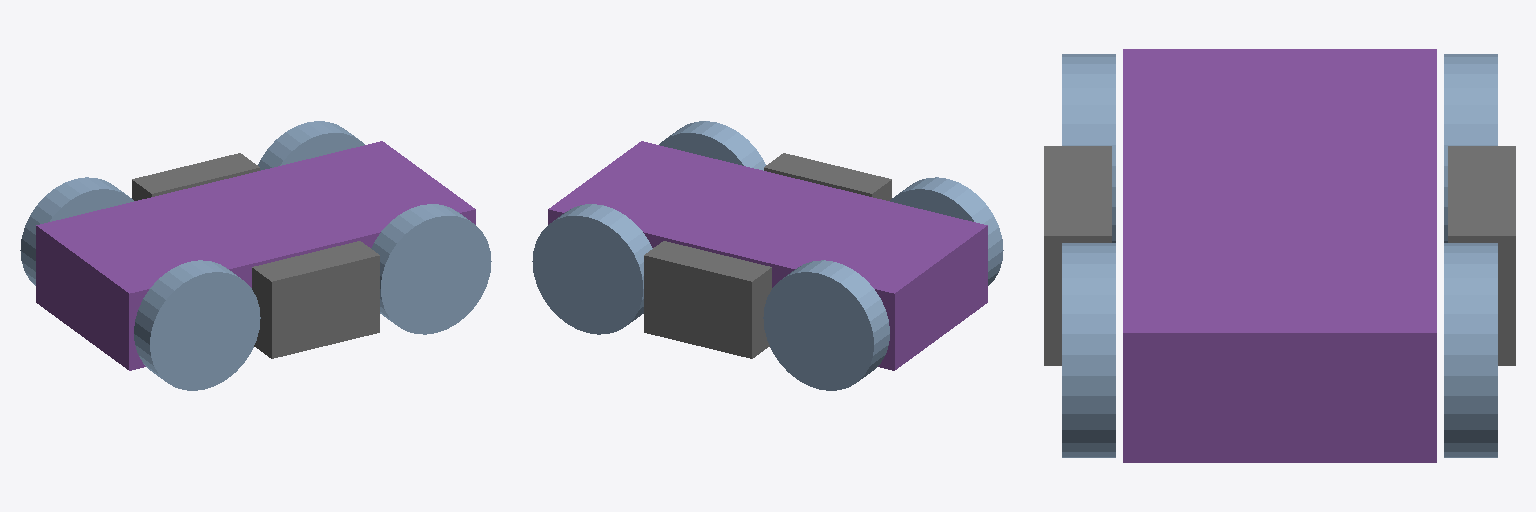
The robot description file, URDF, robot "LCAMP_Robot":
?<?xml version="1.0" encoding="utf-8"?>
<robot name="LCAMP_Robot">
  <link name="center">
    <inertial>
      <origin rpy="0 0 0" xyz="0 0 0" />
      <mass value="50" />
      <inertia ixx="98733.33333333334" ixy="0" ixz="0" iyy="392066.6666666667" iyz="0" izz="456666.6666666667" />
    </inertial>
    <visual>
      <geometry>
        <box size="300 140 64" />
      </geometry>
      <material name="center_material">
        <color rgba="0.6 0.4 0.7 0.5" />
      </material>
    </visual>
    <collision>
      <geometry>
        <box size="300 140 64" />
      </geometry>
    </collision>
  </link>
  <link name="sbFront">
    <inertial>
      <origin rpy="0 0 0" xyz="0 0 0" />
      <mass value="100" />
      <inertia ixx="47466.66666666667" ixy="0" ixz="0" iyy="401633.3333333334" iyz="0" izz="380833.3333333334" />
    </inertial>
    <visual>
      <geometry>
        <mesh filename="[local-path]\Documents\Kooperative Forschung\LCAMP\WP6 CLF\Mobile Robot\CAD-Data\STL-Step-Files\Sensorbox curved_15.STL" scale="1 1 1" />
      </geometry>
      <material name="sbFront_material">
        <color rgba="0.82421875 0.80859375 0.859375 1" />
      </material>
    </visual>
    <collision>
      <geometry>
        <mesh filename="[local-path]\Documents\Kooperative Forschung\LCAMP\WP6 CLF\Mobile Robot\CAD-Data\STL-Step-Files\Sensorbox curved_15.STL" scale="1 1 1" />
      </geometry>
    </collision>
  </link>
  <link name="sbRear">
    <inertial>
      <origin rpy="0 0 0" xyz="0 0 0" />
      <mass value="100" />
      <inertia ixx="47466.66666666667" ixy="0" ixz="0" iyy="401633.3333333334" iyz="0" izz="380833.3333333334" />
    </inertial>
    <visual>
      <geometry>
        <mesh filename="[local-path]\Documents\Kooperative Forschung\LCAMP\WP6 CLF\Mobile Robot\CAD-Data\STL-Step-Files\Sensorbox curved_15.STL" scale="1 1 1" />
      </geometry>
      <material name="sbRear_material">
        <color rgba="0.82421875 0.80859375 0.859375 1" />
      </material>
    </visual>
    <collision>
      <geometry>
        <mesh filename="[local-path]\Documents\Kooperative Forschung\LCAMP\WP6 CLF\Mobile Robot\CAD-Data\STL-Step-Files\Sensorbox curved_15.STL" scale="1 1 1" />
      </geometry>
    </collision>
  </link>
  <link name="Wheel1">
    <inertial>
      <origin rpy="0 0 0" xyz="0 0 0" />
      <mass value="100" />
      <inertia ixx="47466.66666666667" ixy="0" ixz="0" iyy="401633.3333333334" iyz="0" izz="380833.3333333334" />
    </inertial>
    <visual name="Wheel_Hub">
      <origin rpy="1.5707963267948966 0 0" xyz="0 0 0" />
      <geometry>
        <mesh filename="[local-path]\Documents\Kooperative Forschung\LCAMP\WP6 CLF\Mobile Robot\DHBW CAD-Data\Wheels\STL-Step-Dateien\Wheel_Hub.STL" scale="1 1 1" />
      </geometry>
      <material name="Wheel1_material">
        <color rgba="1 1 1 0.7" />
      </material>
    </visual>
    <visual name="Regular_Wheel_Star_30_84">
      <origin rpy="1.5707963267948966 0 0" xyz="0 0 10" />
      <geometry>
        <mesh filename="[local-path]\Documents\Kooperative Forschung\LCAMP\WP6 CLF\Mobile Robot\DHBW CAD-Data\RegularWheel\Stl-Step-Dateien\Regular_Wheel_Star_30_84.STL" scale="1 1 1" />
      </geometry>
      <material name="Wheel1_material">
        <color rgba="1 1 1 0.7" />
      </material>
    </visual>
    <visual name="Regular_Wheel_Star_24_84L">
      <origin rpy="1.5707963267948966 0 0" xyz="0 0 20" />
      <geometry>
        <mesh filename="[local-path]\Documents\Kooperative Forschung\LCAMP\WP6 CLF\Mobile Robot\DHBW CAD-Data\RegularWheel\Stl-Step-Dateien\Regular_Wheel_Star_24_84.STL" scale="1 1 1" />
      </geometry>
      <material name="Wheel1_material">
        <color rgba="1 1 1 0.7" />
      </material>
    </visual>
    <visual name="Hub_Cup_8">
      <origin rpy="0 0 0" xyz="0 0 30" />
      <geometry>
        <mesh filename="[local-path]\Documents\Kooperative Forschung\LCAMP\WP6 CLF\Mobile Robot\DHBW CAD-Data\Wheels\STL-Step-Dateien\Hub_Cup_8.STL" scale="1 1 1" />
      </geometry>
      <material name="Wheel1_material">
        <color rgba="1 1 1 0.7" />
      </material>
    </visual>
    <visual name="Tire_96">
      <origin rpy="1.5707963267948966 0 0" xyz="0 0 40" />
      <geometry>
        <mesh filename="[local-path]\Documents\Kooperative Forschung\LCAMP\WP6 CLF\Mobile Robot\DHBW CAD-Data\RegularWheel\Stl-Step-Dateien\Tire_96.STL" scale="1 1 1" />
      </geometry>
      <material name="Wheel1_material">
        <color rgba="0 0 0 1" />
      </material>
    </visual>
    <collision>
      <geometry>
        <cylinder length="1" radius="1" />
      </geometry>
    </collision>
  </link>
  <link name="Wheel2">
    <inertial>
      <origin rpy="0 0 0" xyz="0 0 0" />
      <mass value="100" />
      <inertia ixx="47466.66666666667" ixy="0" ixz="0" iyy="401633.3333333334" iyz="0" izz="380833.3333333334" />
    </inertial>
    <visual name="Wheel_Hub">
      <origin rpy="1.5707963267948966 0 0" xyz="0 0 0" />
      <geometry>
        <mesh filename="[local-path]\Documents\Kooperative Forschung\LCAMP\WP6 CLF\Mobile Robot\DHBW CAD-Data\Wheels\STL-Step-Dateien\Wheel_Hub.STL" scale="1 1 1" />
      </geometry>
      <material name="Wheel2_material">
        <color rgba="1 1 1 0.7" />
      </material>
    </visual>
    <visual name="Regular_Wheel_Star_30_84">
      <origin rpy="1.5707963267948966 0 0" xyz="0 0 10" />
      <geometry>
        <mesh filename="[local-path]\Documents\Kooperative Forschung\LCAMP\WP6 CLF\Mobile Robot\DHBW CAD-Data\RegularWheel\Stl-Step-Dateien\Regular_Wheel_Star_30_84.STL" scale="1 1 1" />
      </geometry>
      <material name="Wheel2_material">
        <color rgba="1 1 1 0.7" />
      </material>
    </visual>
    <visual name="Regular_Wheel_Star_24_84L">
      <origin rpy="1.5707963267948966 0 0" xyz="0 0 20" />
      <geometry>
        <mesh filename="[local-path]\Documents\Kooperative Forschung\LCAMP\WP6 CLF\Mobile Robot\DHBW CAD-Data\RegularWheel\Stl-Step-Dateien\Regular_Wheel_Star_24_84.STL" scale="1 1 1" />
      </geometry>
      <material name="Wheel2_material">
        <color rgba="1 1 1 0.7" />
      </material>
    </visual>
    <visual name="Hub_Cup_8">
      <origin rpy="0 0 0" xyz="0 0 30" />
      <geometry>
        <mesh filename="[local-path]\Documents\Kooperative Forschung\LCAMP\WP6 CLF\Mobile Robot\DHBW CAD-Data\Wheels\STL-Step-Dateien\Hub_Cup_8.STL" scale="1 1 1" />
      </geometry>
      <material name="Wheel2_material">
        <color rgba="1 1 1 0.7" />
      </material>
    </visual>
    <visual name="Tire_96">
      <origin rpy="1.5707963267948966 0 0" xyz="0 0 40" />
      <geometry>
        <mesh filename="[local-path]\Documents\Kooperative Forschung\LCAMP\WP6 CLF\Mobile Robot\DHBW CAD-Data\RegularWheel\Stl-Step-Dateien\Tire_96.STL" scale="1 1 1" />
      </geometry>
      <material name="Wheel2_material">
        <color rgba="0 0 0 1" />
      </material>
    </visual>
    <collision>
      <geometry>
        <cylinder length="1" radius="1" />
      </geometry>
    </collision>
  </link>
  <link name="Wheel3">
    <inertial>
      <origin rpy="0 0 0" xyz="0 0 0" />
      <mass value="100" />
      <inertia ixx="47466.66666666667" ixy="0" ixz="0" iyy="401633.3333333334" iyz="0" izz="380833.3333333334" />
    </inertial>
    <visual name="Wheel_Hub">
      <origin rpy="1.5707963267948966 0 0" xyz="0 0 0" />
      <geometry>
        <mesh filename="[local-path]\Documents\Kooperative Forschung\LCAMP\WP6 CLF\Mobile Robot\DHBW CAD-Data\Wheels\STL-Step-Dateien\Wheel_Hub.STL" scale="1 1 1" />
      </geometry>
      <material name="Wheel3_material">
        <color rgba="1 1 1 0.7" />
      </material>
    </visual>
    <visual name="Regular_Wheel_Star_30_84">
      <origin rpy="1.5707963267948966 0 0" xyz="0 0 10" />
      <geometry>
        <mesh filename="[local-path]\Documents\Kooperative Forschung\LCAMP\WP6 CLF\Mobile Robot\DHBW CAD-Data\RegularWheel\Stl-Step-Dateien\Regular_Wheel_Star_30_84.STL" scale="1 1 1" />
      </geometry>
      <material name="Wheel3_material">
        <color rgba="1 1 1 0.7" />
      </material>
    </visual>
    <visual name="Regular_Wheel_Star_24_84L">
      <origin rpy="1.5707963267948966 0 0" xyz="0 0 20" />
      <geometry>
        <mesh filename="[local-path]\Documents\Kooperative Forschung\LCAMP\WP6 CLF\Mobile Robot\DHBW CAD-Data\RegularWheel\Stl-Step-Dateien\Regular_Wheel_Star_24_84.STL" scale="1 1 1" />
      </geometry>
      <material name="Wheel3_material">
        <color rgba="1 1 1 0.7" />
      </material>
    </visual>
    <visual name="Hub_Cup_8">
      <origin rpy="0 0 0" xyz="0 0 30" />
      <geometry>
        <mesh filename="[local-path]\Documents\Kooperative Forschung\LCAMP\WP6 CLF\Mobile Robot\DHBW CAD-Data\Wheels\STL-Step-Dateien\Hub_Cup_8.STL" scale="1 1 1" />
      </geometry>
      <material name="Wheel3_material">
        <color rgba="1 1 1 0.7" />
      </material>
    </visual>
    <visual name="Tire_96">
      <origin rpy="1.5707963267948966 0 0" xyz="0 0 40" />
      <geometry>
        <mesh filename="[local-path]\Documents\Kooperative Forschung\LCAMP\WP6 CLF\Mobile Robot\DHBW CAD-Data\RegularWheel\Stl-Step-Dateien\Tire_96.STL" scale="1 1 1" />
      </geometry>
      <material name="Wheel3_material">
        <color rgba="0 0 0 1" />
      </material>
    </visual>
    <collision>
      <geometry>
        <cylinder length="1" radius="1" />
      </geometry>
    </collision>
  </link>
  <link name="Wheel4">
    <inertial>
      <origin rpy="0 0 0" xyz="0 0 0" />
      <mass value="100" />
      <inertia ixx="47466.66666666667" ixy="0" ixz="0" iyy="401633.3333333334" iyz="0" izz="380833.3333333334" />
    </inertial>
    <visual name="Wheel_Hub">
      <origin rpy="1.5707963267948966 0 0" xyz="0 0 0" />
      <geometry>
        <mesh filename="[local-path]\Documents\Kooperative Forschung\LCAMP\WP6 CLF\Mobile Robot\DHBW CAD-Data\Wheels\STL-Step-Dateien\Wheel_Hub.STL" scale="1 1 1" />
      </geometry>
      <material name="Wheel4_material">
        <color rgba="1 1 1 0.7" />
      </material>
    </visual>
    <visual name="Regular_Wheel_Star_30_84">
      <origin rpy="1.5707963267948966 0 0" xyz="0 0 10" />
      <geometry>
        <mesh filename="[local-path]\Documents\Kooperative Forschung\LCAMP\WP6 CLF\Mobile Robot\DHBW CAD-Data\RegularWheel\Stl-Step-Dateien\Regular_Wheel_Star_30_84.STL" scale="1 1 1" />
      </geometry>
      <material name="Wheel4_material">
        <color rgba="1 1 1 0.7" />
      </material>
    </visual>
    <visual name="Regular_Wheel_Star_24_84L">
      <origin rpy="1.5707963267948966 0 0" xyz="0 0 20" />
      <geometry>
        <mesh filename="[local-path]\Documents\Kooperative Forschung\LCAMP\WP6 CLF\Mobile Robot\DHBW CAD-Data\RegularWheel\Stl-Step-Dateien\Regular_Wheel_Star_24_84.STL" scale="1 1 1" />
      </geometry>
      <material name="Wheel4_material">
        <color rgba="1 1 1 0.7" />
      </material>
    </visual>
    <visual name="Hub_Cup_8">
      <origin rpy="0 0 0" xyz="0 0 30" />
      <geometry>
        <mesh filename="[local-path]\Documents\Kooperative Forschung\LCAMP\WP6 CLF\Mobile Robot\DHBW CAD-Data\Wheels\STL-Step-Dateien\Hub_Cup_8.STL" scale="1 1 1" />
      </geometry>
      <material name="Wheel4_material">
        <color rgba="1 1 1 0.7" />
      </material>
    </visual>
    <visual name="Tire_96">
      <origin rpy="1.5707963267948966 0 0" xyz="0 0 40" />
      <geometry>
        <mesh filename="[local-path]\Documents\Kooperative Forschung\LCAMP\WP6 CLF\Mobile Robot\DHBW CAD-Data\RegularWheel\Stl-Step-Dateien\Tire_96.STL" scale="1 1 1" />
      </geometry>
      <material name="Wheel4_material">
        <color rgba="0 0 0 1" />
      </material>
    </visual>
    <collision>
      <geometry>
        <cylinder length="1" radius="1" />
      </geometry>
    </collision>
  </link>
  <link name="sbLeft">
    <inertial>
      <origin rpy="0 0 0" xyz="0 0 0" />
      <mass value="50" />
      <inertia ixx="20816.666666666668" ixy="0" ixz="0" iyy="40566.66666666667" iyz="0" izz="53883.333333333336" />
    </inertial>
    <visual>
      <geometry>
        <box size="94 64 30" />
      </geometry>
      <material name="sbLeft_material">
        <color rgba="0.5 0.5 0.5 0.6" />
      </material>
    </visual>
    <collision>
      <geometry>
        <box size="94 64 30" />
      </geometry>
    </collision>
  </link>
  <link name="sbRight">
    <inertial>
      <origin rpy="0 0 0" xyz="0 0 0" />
      <mass value="50" />
      <inertia ixx="20816.666666666668" ixy="0" ixz="0" iyy="40566.66666666667" iyz="0" izz="53883.333333333336" />
    </inertial>
    <visual>
      <geometry>
        <box size="94 64 30" />
      </geometry>
      <material name="sbRight_material">
        <color rgba="0.5 0.5 0.5 0.6" />
      </material>
    </visual>
    <collision>
      <geometry>
        <box size="94 64 30" />
      </geometry>
    </collision>
  </link>
  <link name="wheel_hl">
    <inertial>
      <origin rpy="0 0 0" xyz="0 0 0" />
      <mass value="50" />
      <inertia ixx="31200.000000000004" ixy="0" ixz="0" iyy="31200.000000000004" iyz="0" izz="57600" />
    </inertial>
    <visual>
      <geometry>
        <cylinder length="24" radius="48" />
      </geometry>
      <material name="wheel_hl_material">
        <color rgba="0.6 0.7 0.8 0.6" />
      </material>
    </visual>
    <collision>
      <geometry>
        <cylinder length="24" radius="48" />
      </geometry>
    </collision>
  </link>
  <link name="wheel_hr">
    <inertial>
      <origin rpy="0 0 0" xyz="0 0 0" />
      <mass value="50" />
      <inertia ixx="31200.000000000004" ixy="0" ixz="0" iyy="31200.000000000004" iyz="0" izz="57600" />
    </inertial>
    <visual>
      <geometry>
        <cylinder length="24" radius="48" />
      </geometry>
      <material name="wheel_hr_material">
        <color rgba="0.6 0.7 0.8 0.6" />
      </material>
    </visual>
    <collision>
      <geometry>
        <cylinder length="24" radius="48" />
      </geometry>
    </collision>
  </link>
  <link name="wheel_vl">
    <inertial>
      <origin rpy="0 0 0" xyz="0 0 0" />
      <mass value="50" />
      <inertia ixx="31200.000000000004" ixy="0" ixz="0" iyy="31200.000000000004" iyz="0" izz="57600" />
    </inertial>
    <visual>
      <geometry>
        <cylinder length="24" radius="48" />
      </geometry>
      <material name="wheel_vl_material">
        <color rgba="0.6 0.7 0.8 0.6" />
      </material>
    </visual>
    <collision>
      <geometry>
        <cylinder length="24" radius="48" />
      </geometry>
    </collision>
  </link>
  <link name="wheel_vr">
    <inertial>
      <origin rpy="0 0 0" xyz="0 0 0" />
      <mass value="50" />
      <inertia ixx="31200.000000000004" ixy="0" ixz="0" iyy="31200.000000000004" iyz="0" izz="57600" />
    </inertial>
    <visual>
      <geometry>
        <cylinder length="24" radius="48" />
      </geometry>
      <material name="wheel_vr_material">
        <color rgba="0.6 0.7 0.8 0.6" />
      </material>
    </visual>
    <collision>
      <geometry>
        <cylinder length="24" radius="48" />
      </geometry>
    </collision>
  </link>
  <joint name="joint_hl" type="continuous">
    <origin rpy="1.5707963267948966 0 0" xyz="-100 85 0" />
    <parent link="center" />
    <child link="wheel_hl" />
    <axis xyz="0 0 1" />
    <dynamics damping="0.1" friction="0.1" />
  </joint>
  <joint name="joint_hlhc" type="fixed">
    <origin rpy="0 3.141592653589793 0" xyz="0 0 -12" />
    <parent link="wheel_hl" />
    <child link="Wheel1" />
    <axis xyz="0 1 0" />
    <dynamics damping="0.1" friction="0.1" />
  </joint>
  <joint name="joint_hr" type="continuous">
    <origin rpy="1.5707963267948966 0 0" xyz="-100 -85 0" />
    <parent link="center" />
    <child link="wheel_hr" />
    <axis xyz="0 0 1" />
    <dynamics damping="0.1" friction="0.1" />
  </joint>
  <joint name="joint_hrhc" type="fixed">
    <origin rpy="0 0 0" xyz="0 0 12" />
    <parent link="wheel_hr" />
    <child link="Wheel2" />
    <axis xyz="0 1 0" />
    <dynamics damping="0.1" friction="0.1" />
  </joint>
  <joint name="joint_vl" type="continuous">
    <origin rpy="1.5707963267948966 0 0" xyz="100 85 0" />
    <parent link="center" />
    <child link="wheel_vl" />
    <axis xyz="0 0 1" />
    <dynamics damping="0.1" friction="0.1" />
  </joint>
  <joint name="joint_vlhc" type="fixed">
    <origin rpy="0 3.141592653589793 0" xyz="0 0 -12" />
    <parent link="wheel_vl" />
    <child link="Wheel3" />
    <axis xyz="0 1 0" />
    <dynamics damping="0.1" friction="0.1" />
  </joint>
  <joint name="joint_vr" type="continuous">
    <origin rpy="1.5707963267948966 0 0" xyz="100 -85 0" />
    <parent link="center" />
    <child link="wheel_vr" />
    <axis xyz="0 0 1" />
    <dynamics damping="0.1" friction="0.1" />
  </joint>
  <joint name="joint_vrhc" type="fixed">
    <origin rpy="0 0 0" xyz="0 0 12" />
    <parent link="wheel_vr" />
    <child link="Wheel4" />
    <axis xyz="0 1 0" />
    <dynamics damping="0.1" friction="0.1" />
  </joint>
  <joint name="joint_sbFront" type="fixed">
    <origin rpy="-1.5707963267948966 -1.5707963267948966 0" xyz="150 0 -32" />
    <parent link="center" />
    <child link="sbFront" />
    <axis xyz="0 1 0" />
    <dynamics damping="0.1" friction="0.1" />
  </joint>
  <joint name="joint_sbRear" type="fixed">
    <origin rpy="1.5707963267948966 -1.5707963267948966 0" xyz="-150 0 -32" />
    <parent link="center" />
    <child link="sbRear" />
    <axis xyz="0 1 0" />
    <dynamics damping="0.1" friction="0.1" />
  </joint>
  <joint name="joint_sbLeft" type="fixed">
    <origin rpy="1.5707963267948966 0 0" xyz="0 90 0" />
    <parent link="center" />
    <child link="sbLeft" />
    <axis xyz="0 1 0" />
    <dynamics damping="0.1" friction="0.1" />
  </joint>
  <joint name="joint_sbRight" type="fixed">
    <origin rpy="-1.5707963267948966 0 0" xyz="0 -90 0" />
    <parent link="center" />
    <child link="sbRight" />
    <axis xyz="0 1 0" />
    <dynamics damping="0.1" friction="0.1" />
  </joint>
</robot>

--- What the picture shows (computed from the rendered views, not written in the file) ---
3 views of the same robot in one strip: view 1: azimuth 30°, elevation 25°; view 2: azimuth 150°, elevation 25°; view 3: azimuth 270°, elevation 25° (orthographic).
Model LCAMP_Robot with 13 links and 12 joints (4 continuous, 8 fixed), rooted at center, posed every joint at zero.
Visible links, largest first — view 1: center, wheel_hr, wheel_vr, sbRight, wheel_hl, wheel_vl, sbLeft; view 2: center, wheel_hl, wheel_vl, sbLeft, wheel_hr, wheel_vr, sbRight; view 3: center, wheel_vl, wheel_vr, sbLeft, sbRight, wheel_hl, wheel_hr.
Boxes of the visible links, box(x1,y1,x2,y2) form: center: box(36, 141, 475, 370); wheel_hr: box(134, 260, 260, 390); wheel_vr: box(371, 204, 491, 334); sbRight: box(252, 241, 379, 358); wheel_hl: box(20, 177, 133, 285); wheel_vl: box(258, 121, 364, 170); sbLeft: box(132, 153, 259, 200); center: box(548, 141, 987, 370); wheel_hl: box(763, 260, 889, 390); wheel_vl: box(532, 204, 652, 334); sbLeft: box(644, 241, 771, 358); wheel_hr: box(890, 177, 1003, 285); wheel_vr: box(659, 121, 765, 170); sbRight: box(764, 153, 891, 200); center: box(1123, 49, 1436, 462); wheel_vl: box(1444, 243, 1497, 457); wheel_vr: box(1062, 243, 1115, 457); sbLeft: box(1448, 146, 1515, 365); sbRight: box(1044, 146, 1111, 365); wheel_hl: box(1444, 54, 1497, 242); wheel_hr: box(1062, 54, 1115, 242).
Size in the robot's own frame: 300 by 210 by 96 metres.
Geometry: only primitive shapes (box / cylinder / sphere) drawn; not drawn: 22 mesh visuals (reference in a form the renderer does not follow).